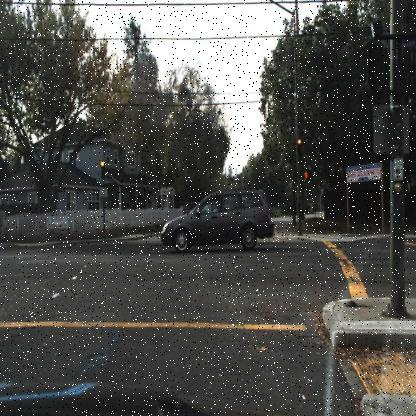car: (160, 184, 275, 258)
trafficLight: (100, 159, 105, 179)
trafficLight-Red: (296, 137, 303, 160)
